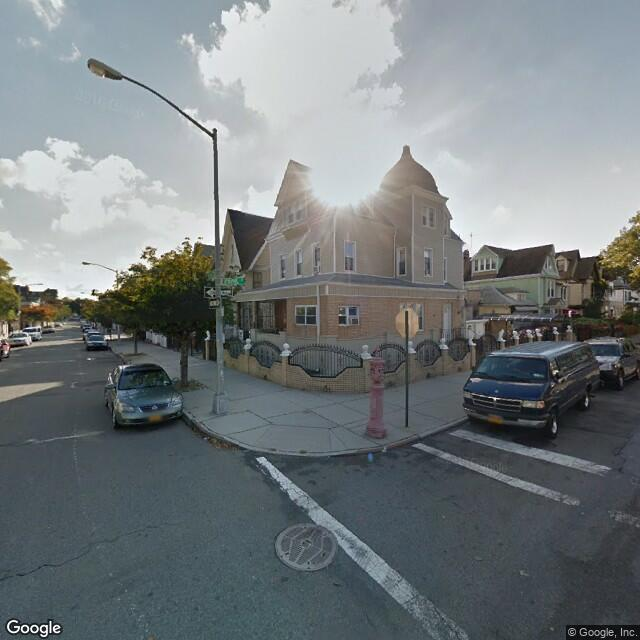litter: (194, 435, 246, 455)
